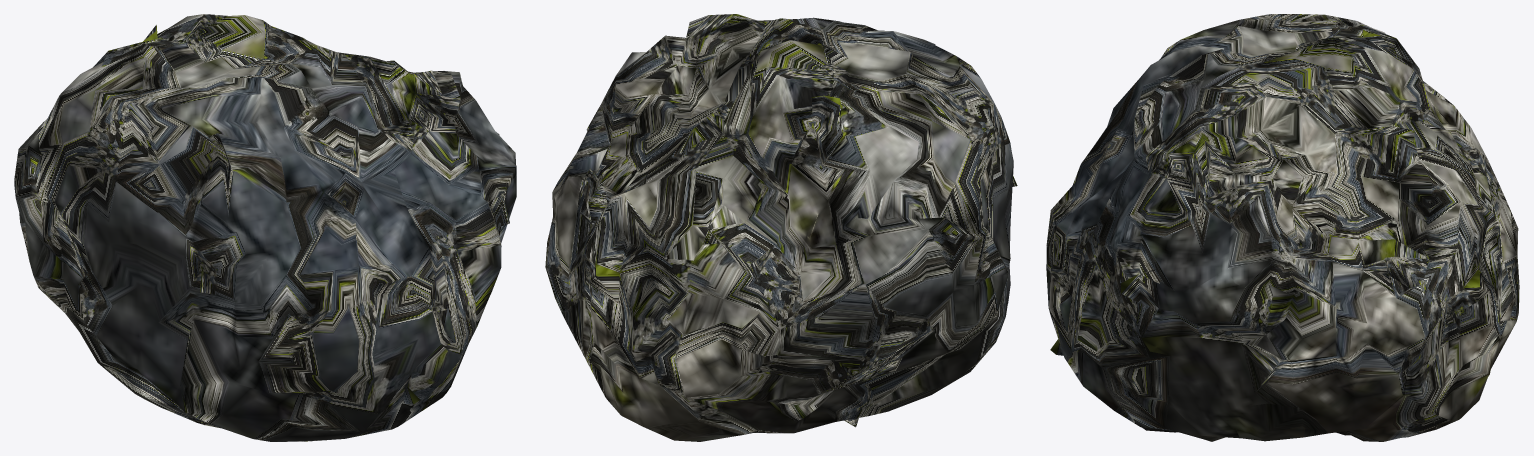
The model's file is boulder-low.glb.
The picture shows the model from 3 angles, left to right: view 1: azimuth 30°, elevation 25°; view 2: azimuth 150°, elevation 25°; view 3: azimuth 270°, elevation 25°; orthographic projection. The views are drawn at different scales.
Bounding box in the file's own units: 0.9887 × 0.8002 × 0.981.
Materials: 1 (1 with a texture image).
